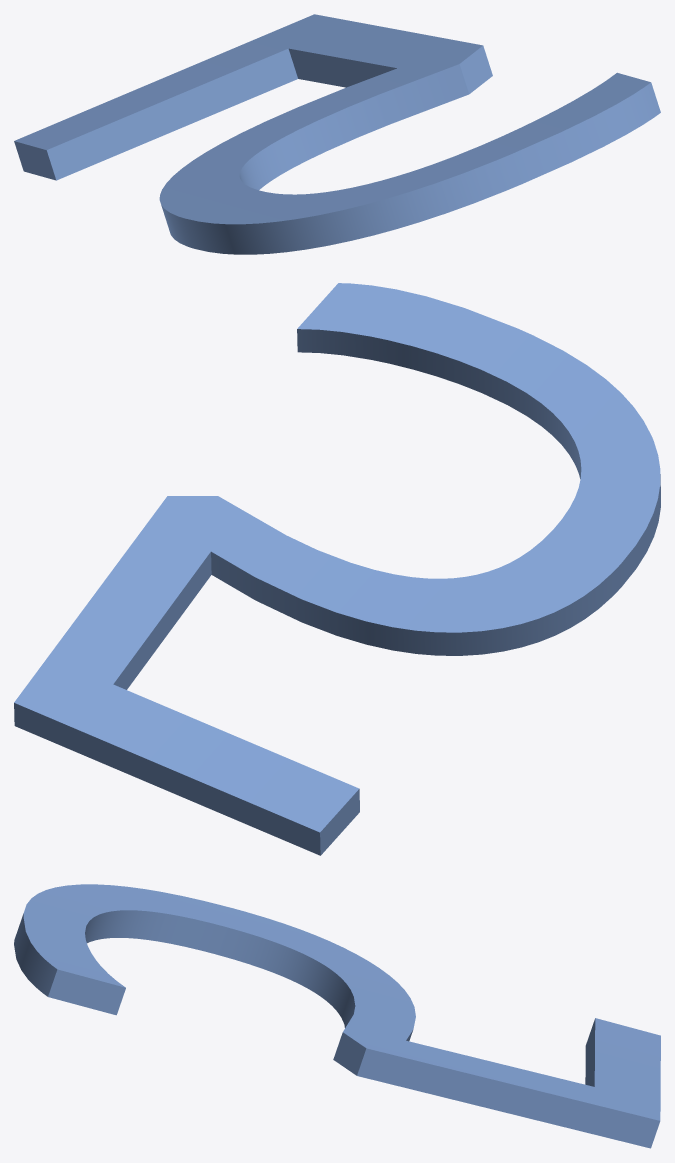
Rendered from New_Number_5.gltf.
3 views of the same model, one above another, from view 1: azimuth 30°, elevation 25°; view 2: azimuth 150°, elevation 25°; view 3: azimuth 270°, elevation 25° (orthographic). The views are drawn at different scales.
Parts seen in each view (by area): view 1: Part 689; view 2: Part 689; view 3: Part 689.
Part boxes in pixels (x1,y1,x2,y2): Part 689: [14, 14, 660, 254]; Part 689: [14, 283, 660, 855]; Part 689: [14, 884, 660, 1148].
Bounding box in the file's own units: 0.0034 × 0.00215 × 0.00546.
